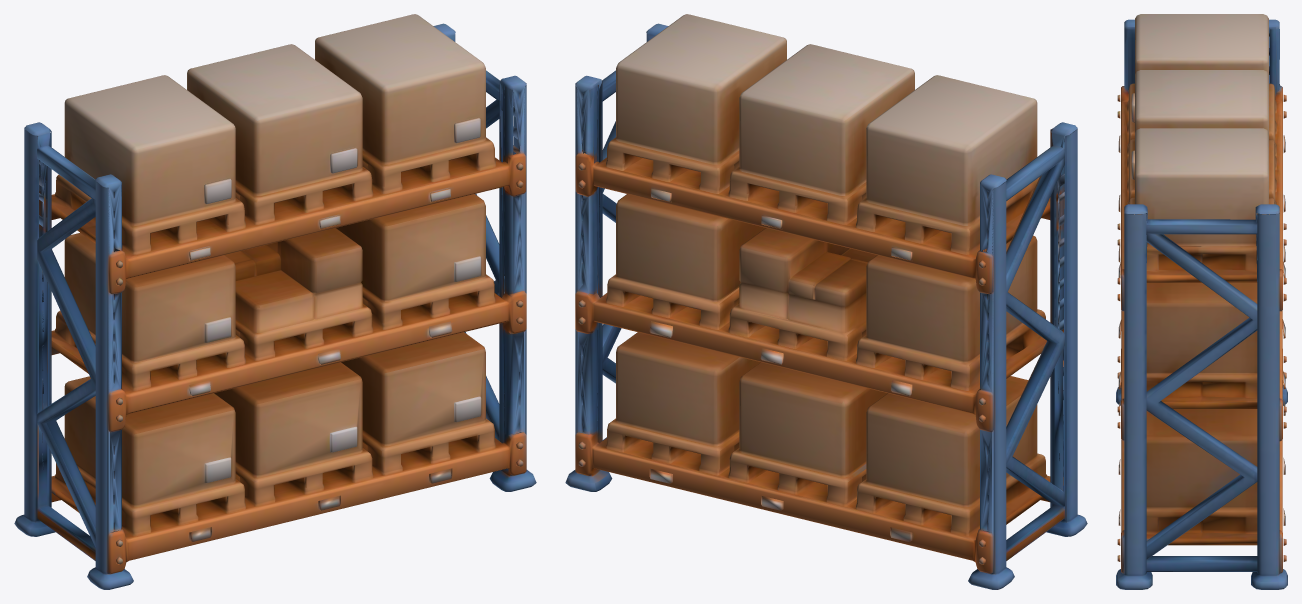
The model's file is warehouse_shelf_b7b87618_v1.glb.
3 views of the same model, side by side, from view 1: azimuth 30°, elevation 25°; view 2: azimuth 150°, elevation 25°; view 3: azimuth 270°, elevation 25° (orthographic). The views are drawn at different scales.
Visible parts, largest first — view 1: material; view 2: material; view 3: material.
Part boxes in pixels (x1,y1,x2,y2): material: (14,14,536,589); material: (565,14,1087,589); material: (1116,14,1287,589).
Bounding box in the file's own units: 1.9 × 1.78 × 0.6932.
1 material, 1 textured.
